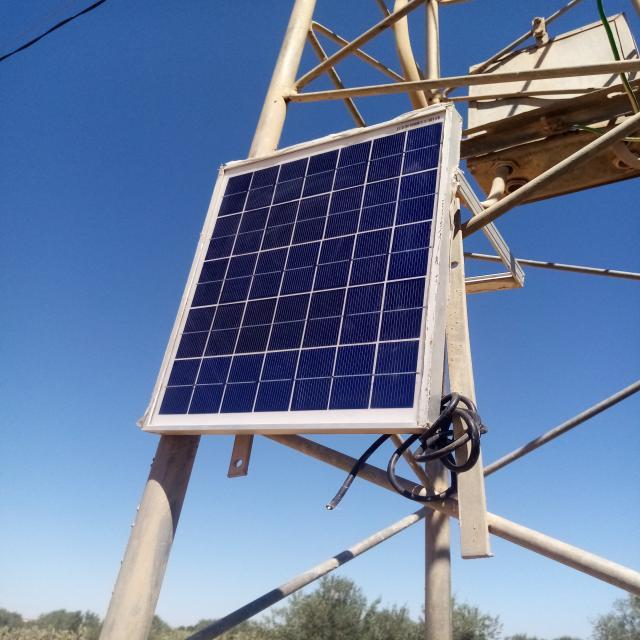no faulty: (146, 106, 448, 427)
